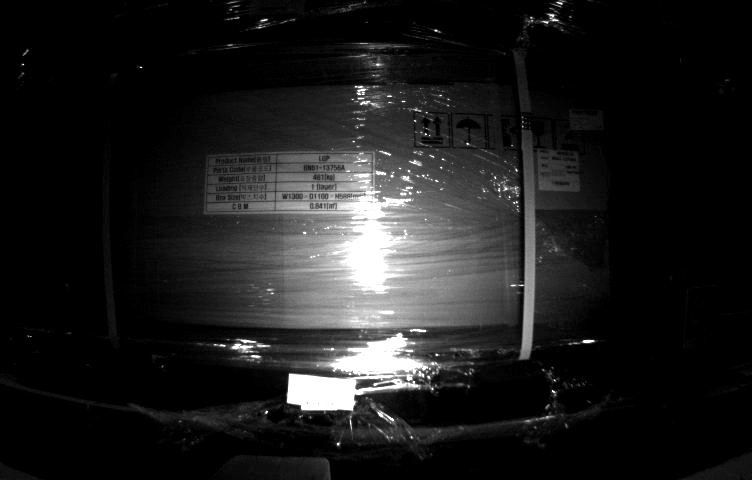True Barcode: (537, 147, 580, 191)
